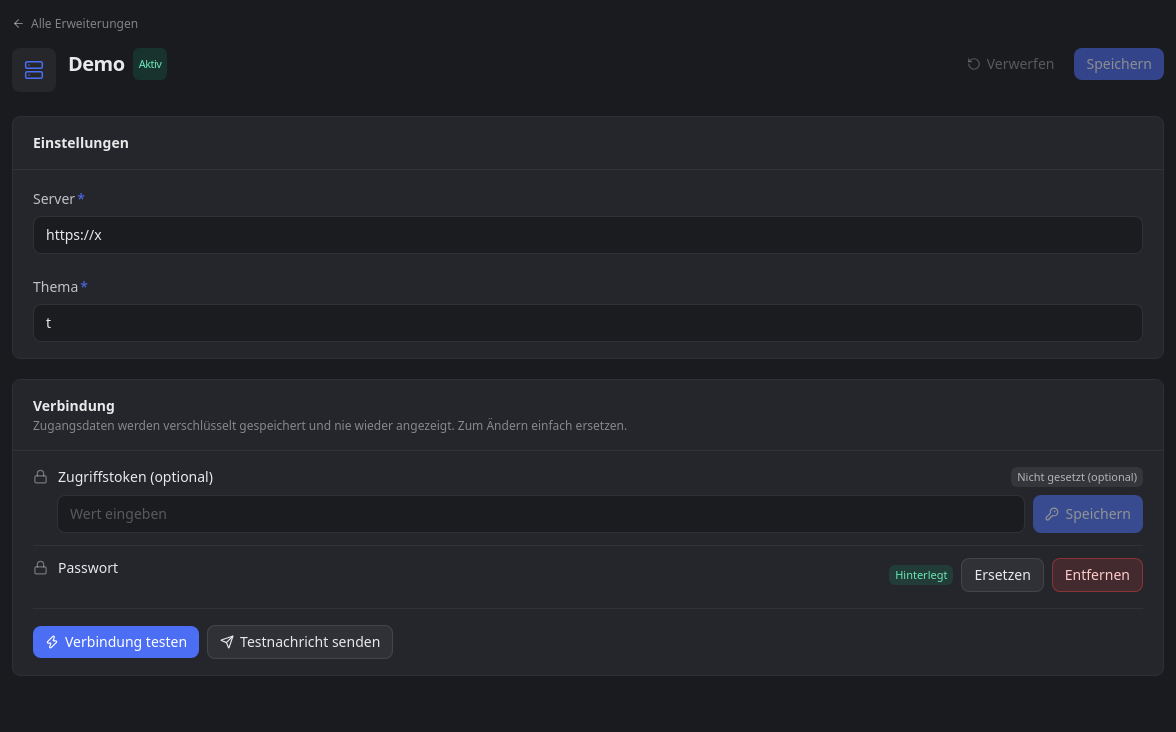
Test: Zugangsdaten in der Verbindungskarte › ersetzt ein Geheimnis über das Eingabefeld
Click the button "Ersetzen". click: (1003, 575)
box: [962,558,1044,592]
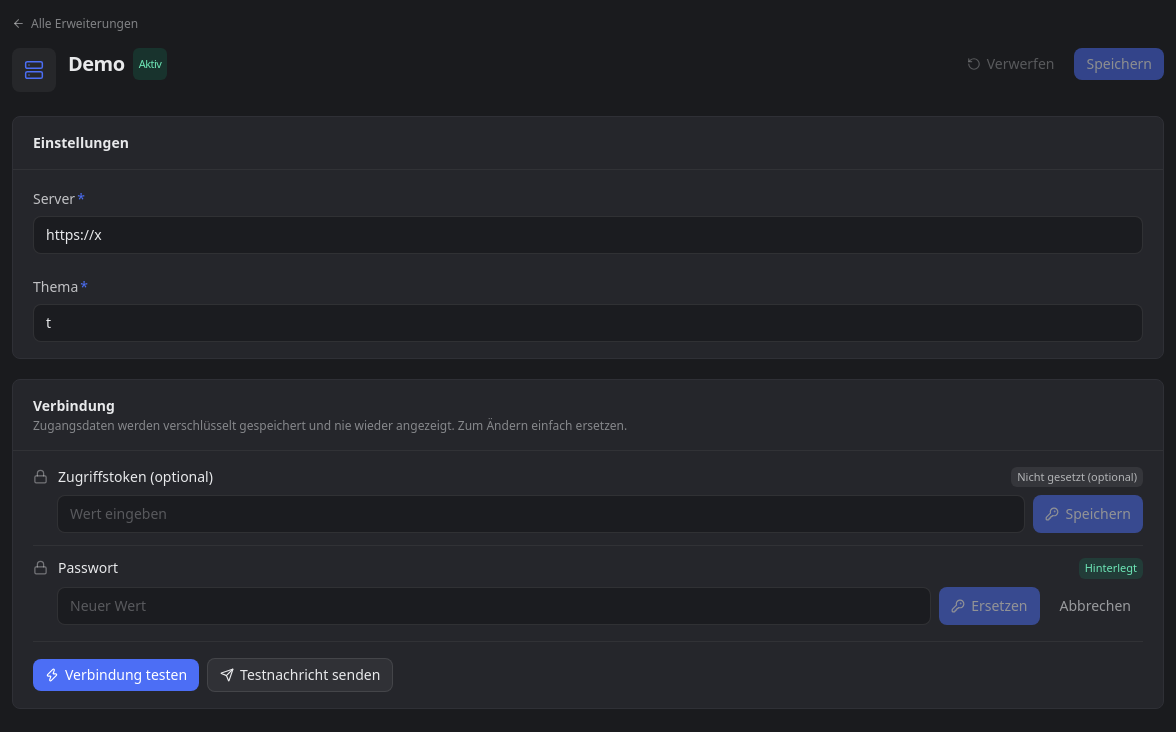
Type "neu-geheim" into the password field named "Passwort". click: (494, 606)
box: [57,586,931,624]
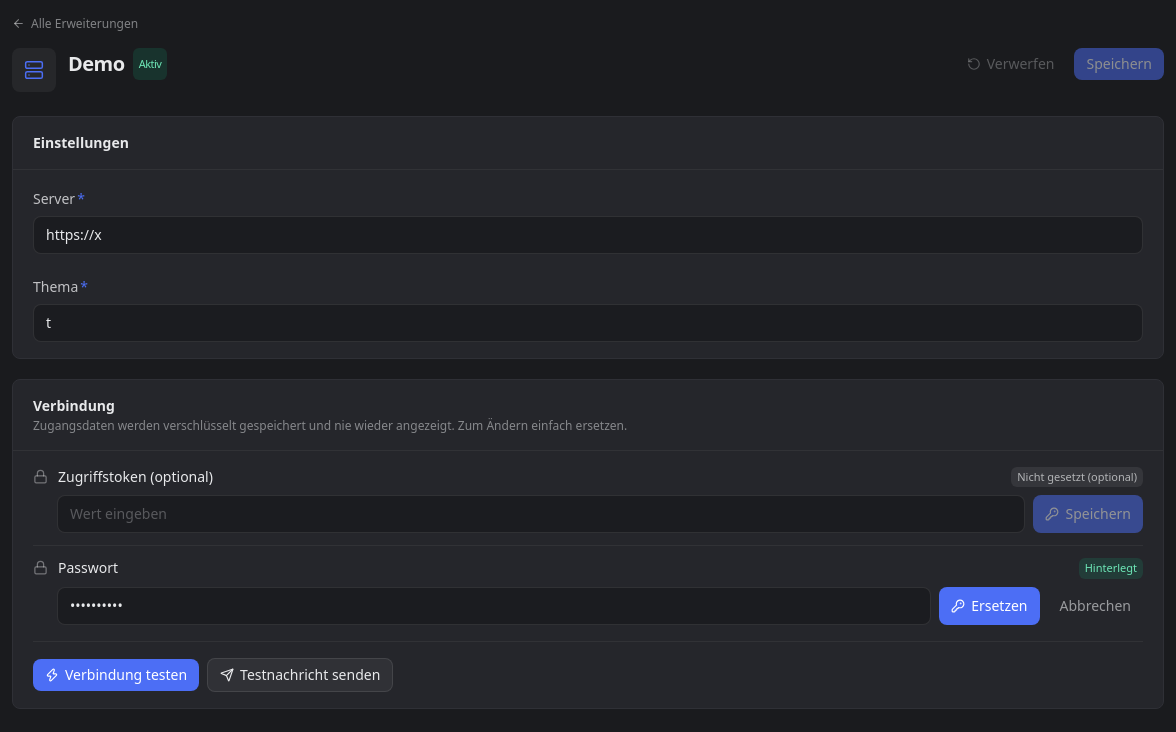
Click the button "Ersetzen". click: (989, 606)
box: [939,586,1040,624]
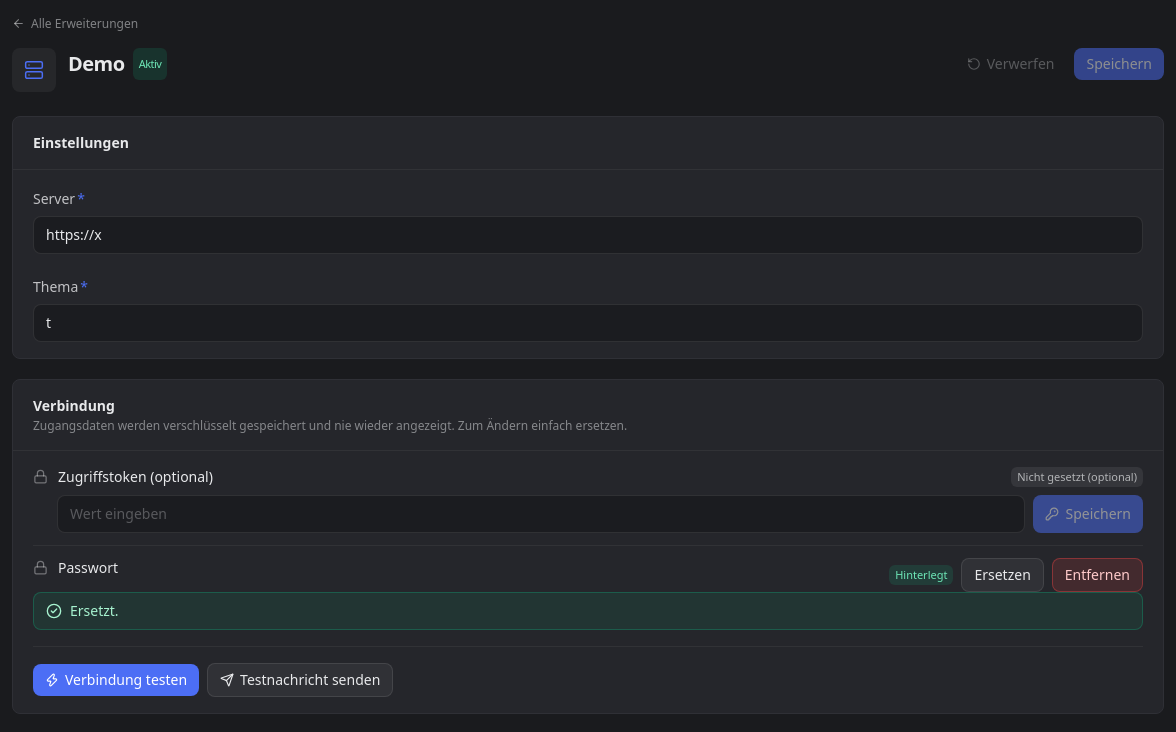
Check: the text "Hinterlegt" is shown, box [889,565,954,585]
Check: the text "Ersetzt." is shown, box [33,592,1143,630]
